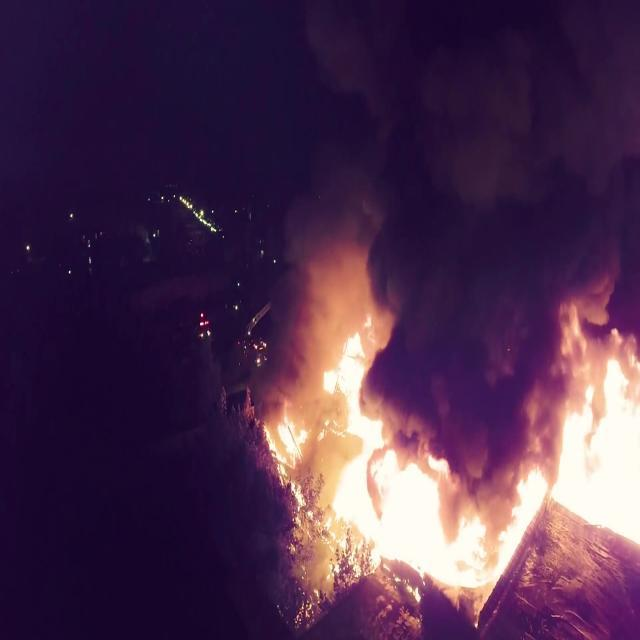Fire: (262, 262, 640, 618)
Smoke: (251, 0, 638, 569)
